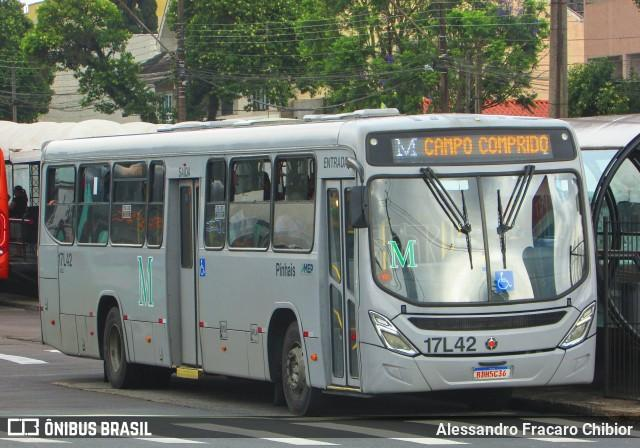CAMPO COMPRIDO: (422, 132, 552, 160)
